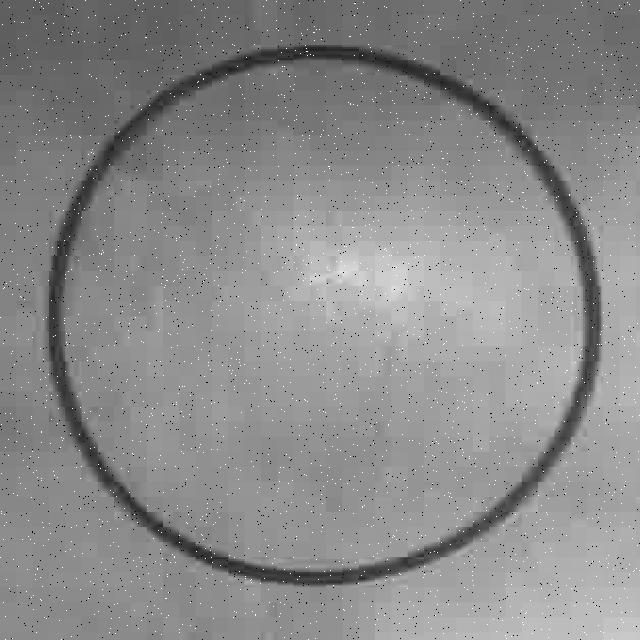Circle: (42, 42, 604, 586)
